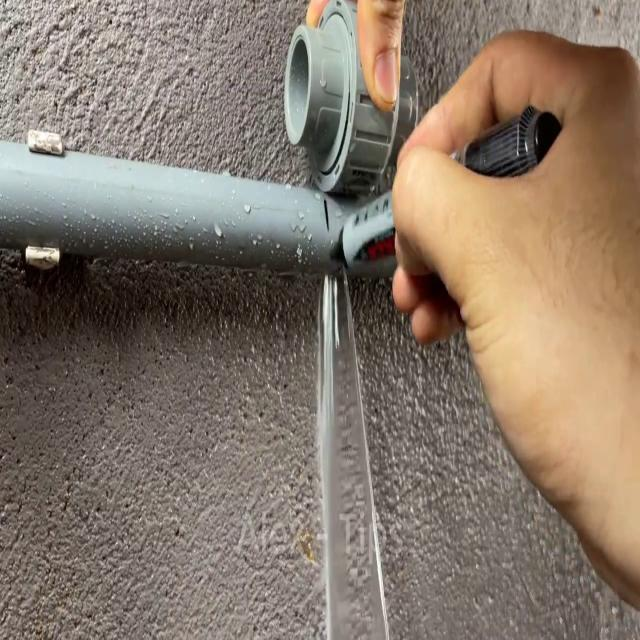leak: (323, 261, 391, 640)
